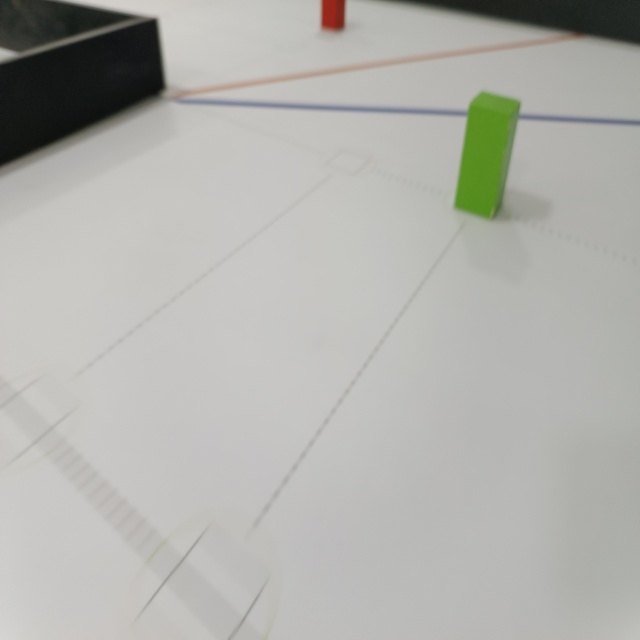blue line: (153, 82, 640, 130)
green rectangular prism: (451, 90, 520, 228)
orange line: (173, 34, 580, 98)
red rectangular prism: (315, 0, 345, 33)
